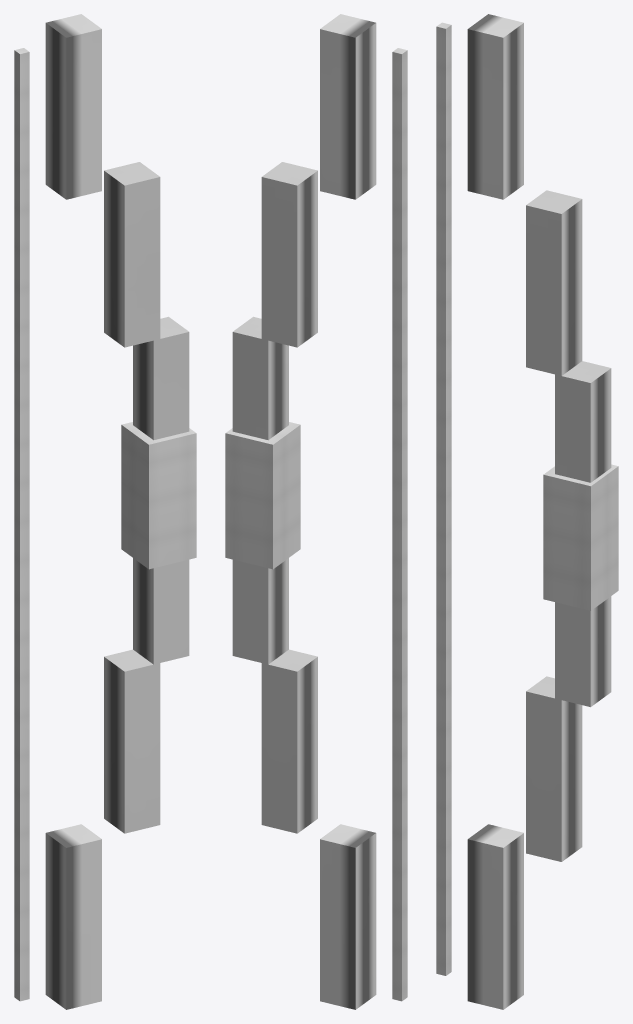
The model's file is bow_recurve.obj.
3 views of the same model, side by side, from view 1: azimuth 30°, elevation 25°; view 2: azimuth 150°, elevation 25°; view 3: azimuth 330°, elevation 25° (orthographic).
Parts seen in each view (by area): view 1: bow_recurve; view 2: bow_recurve; view 3: bow_recurve.
Part boxes in pixels (x1,y1,x2,y2): bow_recurve: (14,14,196,1009); bow_recurve: (225,14,407,1009); bow_recurve: (436,14,618,1009).
Bounding box in the file's own units: 0.139 × 0.78 × 0.04.
